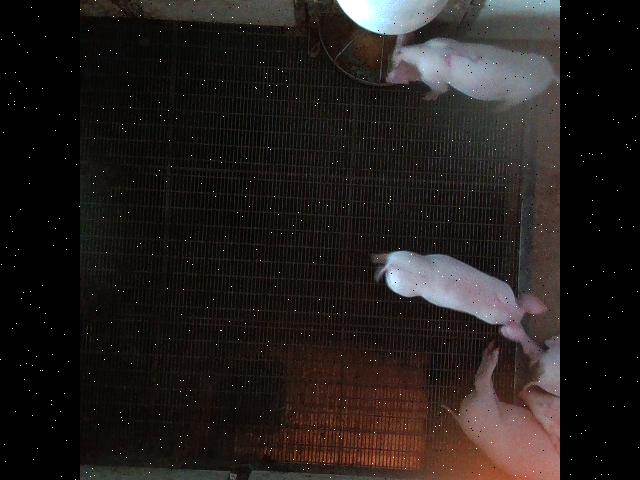pig-5: (386, 31, 558, 105)
